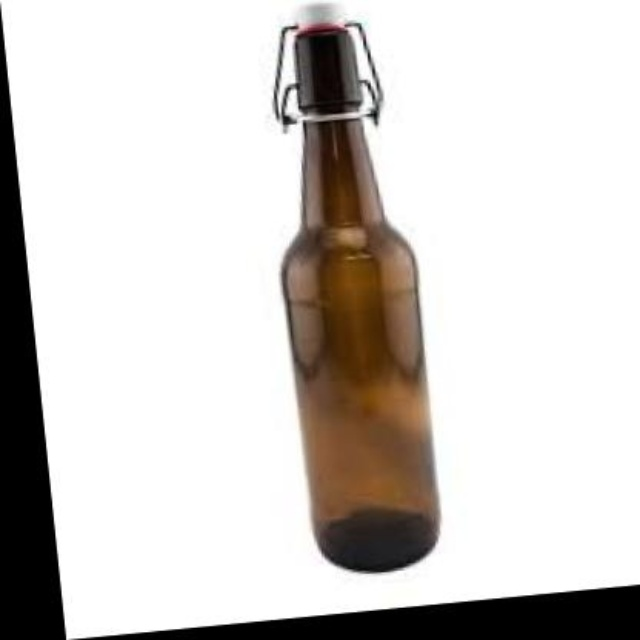trash: (274, 5, 438, 571)
